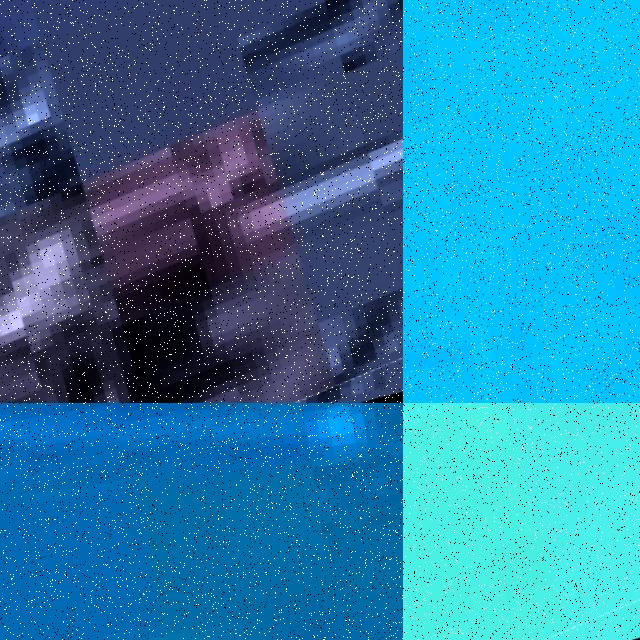0: (0, 0, 403, 403)
drone: (403, 403, 640, 640)
